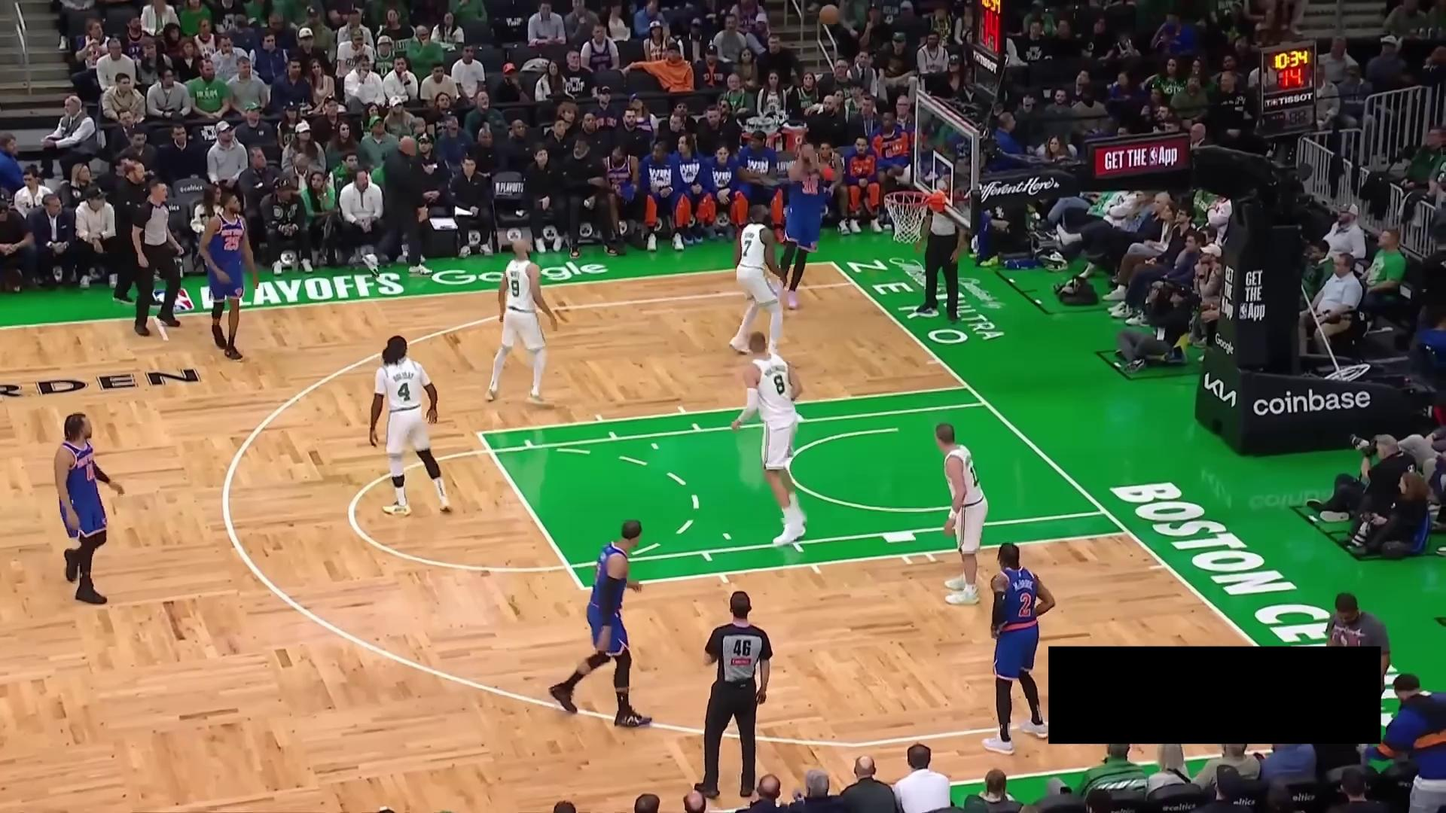ball: (817, 2, 842, 27)
number: (1019, 591, 1035, 615), (772, 374, 786, 395), (398, 381, 411, 403), (510, 279, 521, 298), (226, 234, 239, 250), (742, 239, 753, 257)
player: (547, 519, 654, 729), (730, 333, 808, 548), (980, 542, 1056, 756), (367, 334, 453, 516), (56, 412, 124, 606), (484, 235, 557, 407), (728, 178, 788, 360), (776, 127, 833, 311), (196, 191, 256, 361), (936, 422, 988, 607)
referee: (696, 590, 775, 806), (131, 178, 183, 337), (918, 199, 966, 322)
rim: (882, 189, 932, 209)
